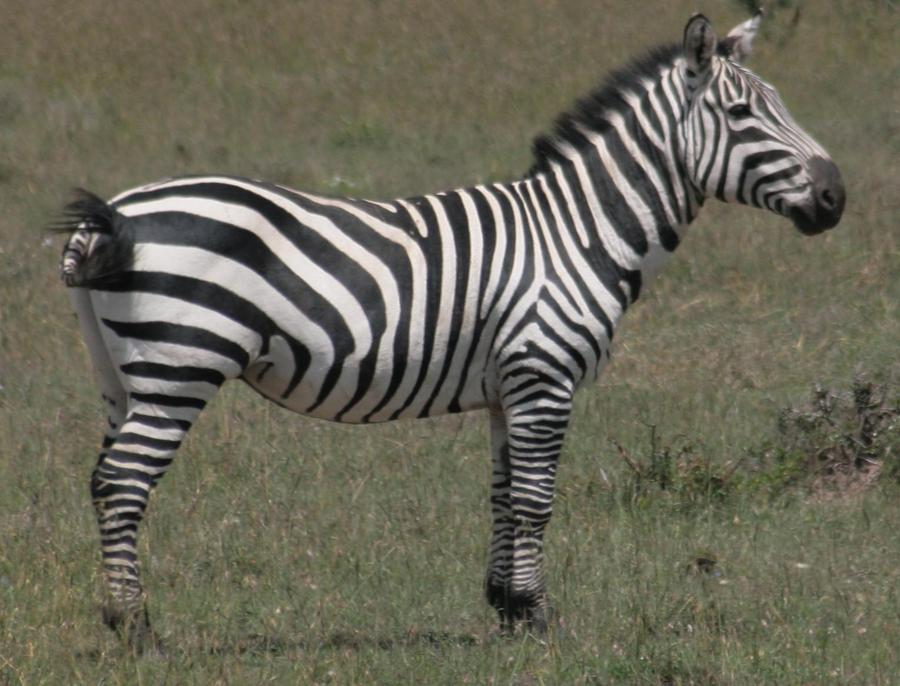zebra_plains: (76, 137, 636, 449)
